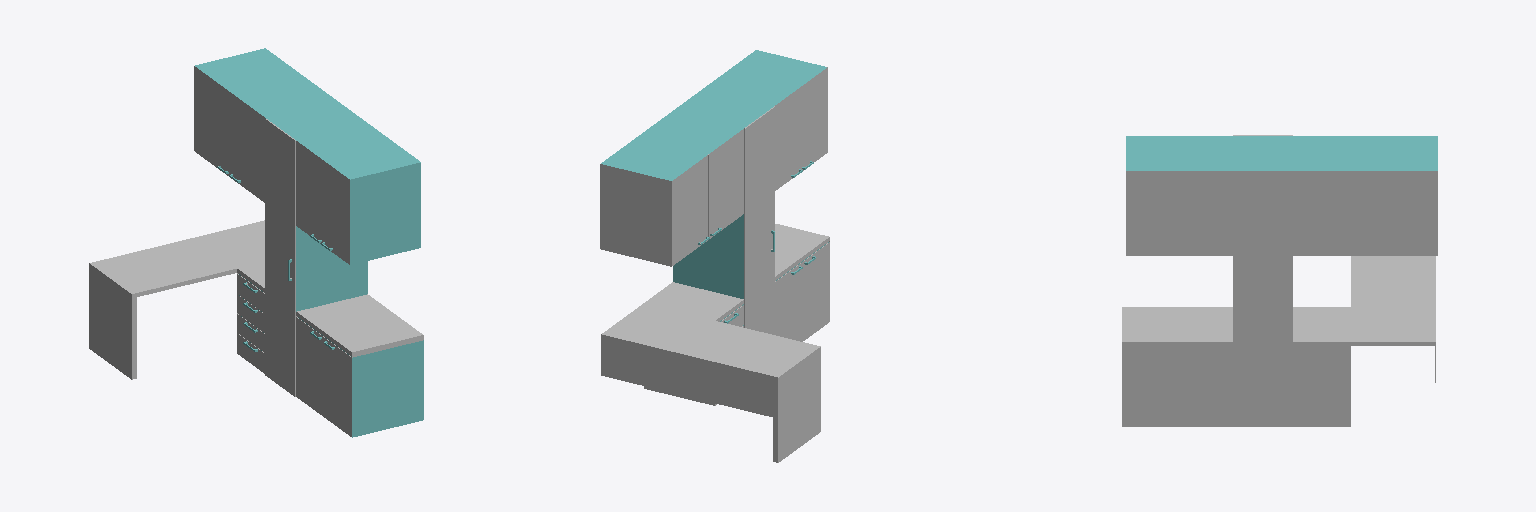
Rendered from wardrobe.obj.
3 renders of one model, left to right at view 1: azimuth 30°, elevation 25°; view 2: azimuth 150°, elevation 25°; view 3: azimuth 270°, elevation 25°, orthographic.
Visible parts, largest first — view 1: armario_Cube, arestas_Cube.006; view 2: armario_Cube, arestas_Cube.006; view 3: armario_Cube, arestas_Cube.006.
Boxes of the visible parts, <box> form: armario_Cube: <box>89,66,423,436</box>; arestas_Cube.006: <box>195,48,423,437</box>; armario_Cube: <box>600,67,829,462</box>; arestas_Cube.006: <box>601,50,828,325</box>; armario_Cube: <box>1122,135,1437,426</box>; arestas_Cube.006: <box>1126,136,1437,170</box>.
Bounding box in the file's own units: 6.5 × 9 × 10.04.